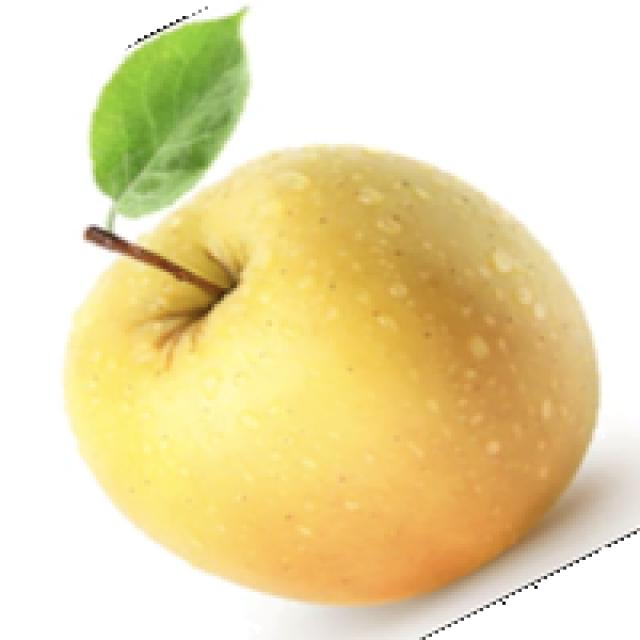apple: (58, 0, 637, 637)
